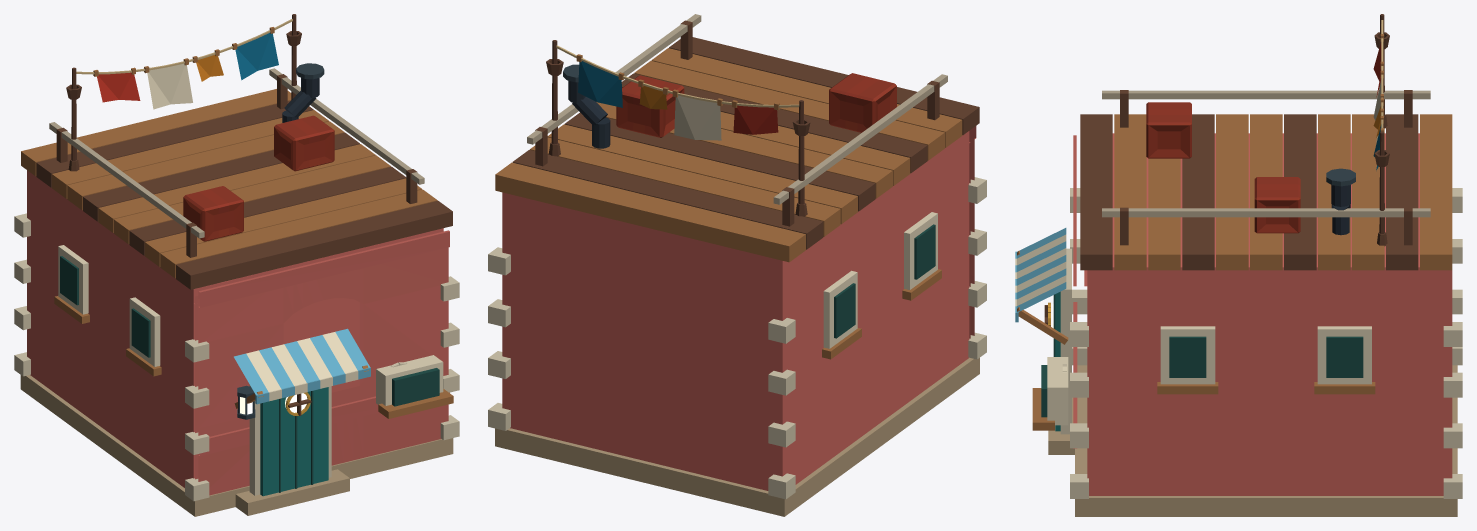
The model's file is net-loft-medium-coral.glb.
The picture shows the model from 3 angles, left to right: view 1: azimuth 30°, elevation 25°; view 2: azimuth 150°, elevation 25°; view 3: azimuth 270°, elevation 25°; orthographic projection. The views are drawn at different scales.
Parts seen in each view (by area): view 1: net-loft-medium-coral; view 2: net-loft-medium-coral; view 3: net-loft-medium-coral.
Part boxes in pixels (left/top/right/bottom): net-loft-medium-coral: left=14, top=14, right=459, bottom=516; net-loft-medium-coral: left=488, top=14, right=986, bottom=516; net-loft-medium-coral: left=1015, top=14, right=1462, bottom=516.
Size of the model in its own units: 3.88 by 4.76 by 5.16.
